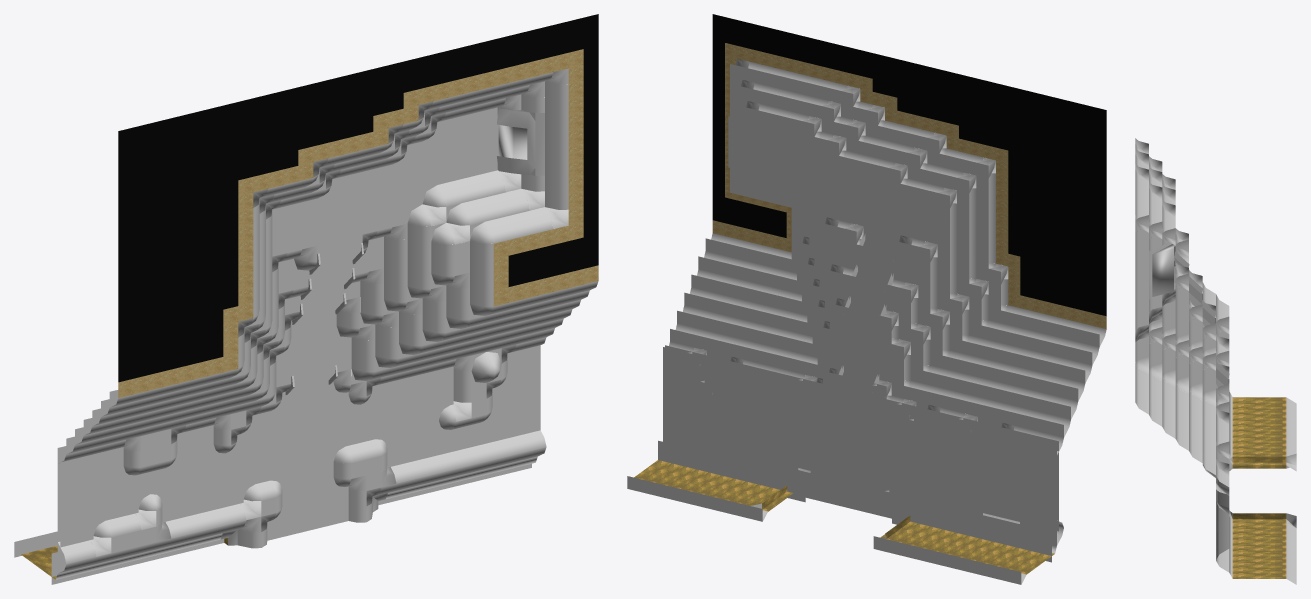
Rendered from Shallow-Cove_01_00.obj.
The picture shows the model from 3 angles, left to right: view 1: azimuth 30°, elevation 25°; view 2: azimuth 150°, elevation 25°; view 3: azimuth 270°, elevation 25°; orthographic projection. The views are drawn at different scales.
Visible parts, largest first — view 1: map; view 2: map; view 3: map.
Part boxes in pixels (x1,y1,x2,y2): map: (14, 14, 598, 584); map: (627, 14, 1106, 584); map: (1135, 138, 1296, 584).
Size of the model in its own units: 32 by 32 by 12.
